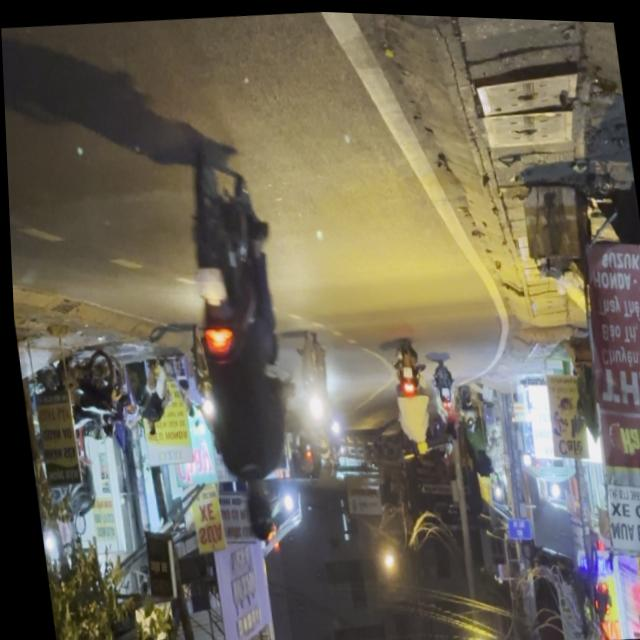helmet: (233, 473, 273, 542)
licenseplate: (164, 136, 305, 545)
nohelmet: (190, 266, 223, 303)
